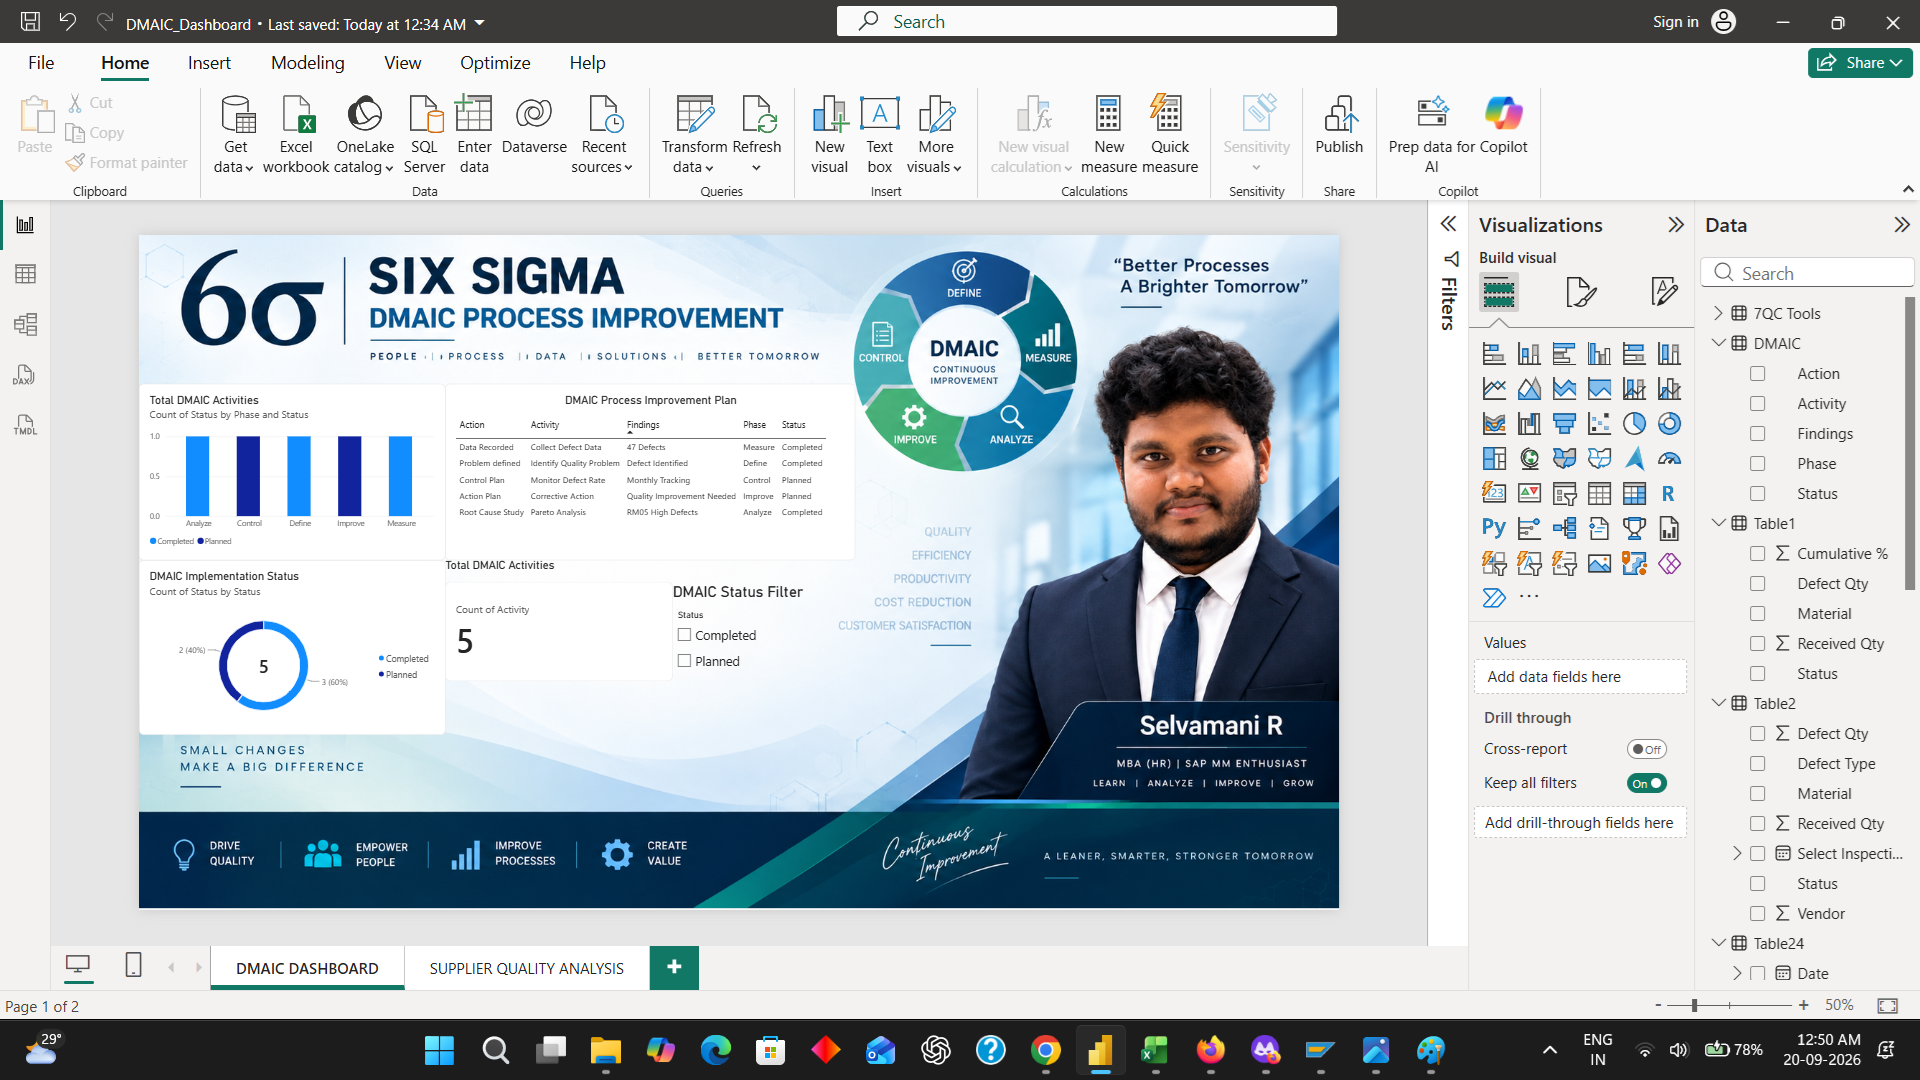

The page's visual inventory and layout, read from the dashboard file:
{"tool":"powerbi","page":{"name":"DMAIC DASHBOARD","canvas":[1920,1080],"ordinal":0},"visuals":[{"type":"tableEx","title":"DMAIC Process Improvement Plan","fields":{"Values":["DMAIC.Action","DMAIC.Activity","DMAIC.Findings ","DMAIC.Phase","DMAIC.Status"]},"box":[490,238,656,282],"z":0},{"type":"donutChart","title":"DMAIC Implementation Status","fields":{"Category":["DMAIC.Status"],"Y":["CountNonNull(DMAIC.Status)"]},"box":[0,520,490,280],"z":1000},{"type":"slicer","title":"DMAIC Status Filter","fields":{"Values":["DMAIC.Status"]},"box":[854,556,248,162],"z":2000},{"type":"columnChart","title":"Total DMAIC Activities","fields":{"Category":["DMAIC.Phase"],"Series":["DMAIC.Status"],"Y":["CountNonNull(DMAIC.Status)"]},"box":[0,238,490,282],"z":3000},{"type":"cardVisual","title":"Total DMAIC Activities","fields":{"Data":["Count(DMAIC.Activity)"]},"box":[490,518,364,196],"z":4000},{"type":"textbox","box":[0,34,446,200],"z":5000}]}

Visuals, with their boxes on the page's 1920x1080 design canvas (x1, y1, x2, y2). These are canvas units, not pixel positions in the 1920x1080 screenshot, which may show the page scaled, cropped or inside an application window:
"DMAIC Process Improvement Plan" tableEx: region(490, 238, 1146, 520)
"DMAIC Implementation Status" donutChart: region(0, 520, 490, 800)
"DMAIC Status Filter" slicer: region(854, 556, 1102, 718)
"Total DMAIC Activities" columnChart: region(0, 238, 490, 520)
"Total DMAIC Activities" cardVisual: region(490, 518, 854, 714)
textbox: region(0, 34, 446, 234)
